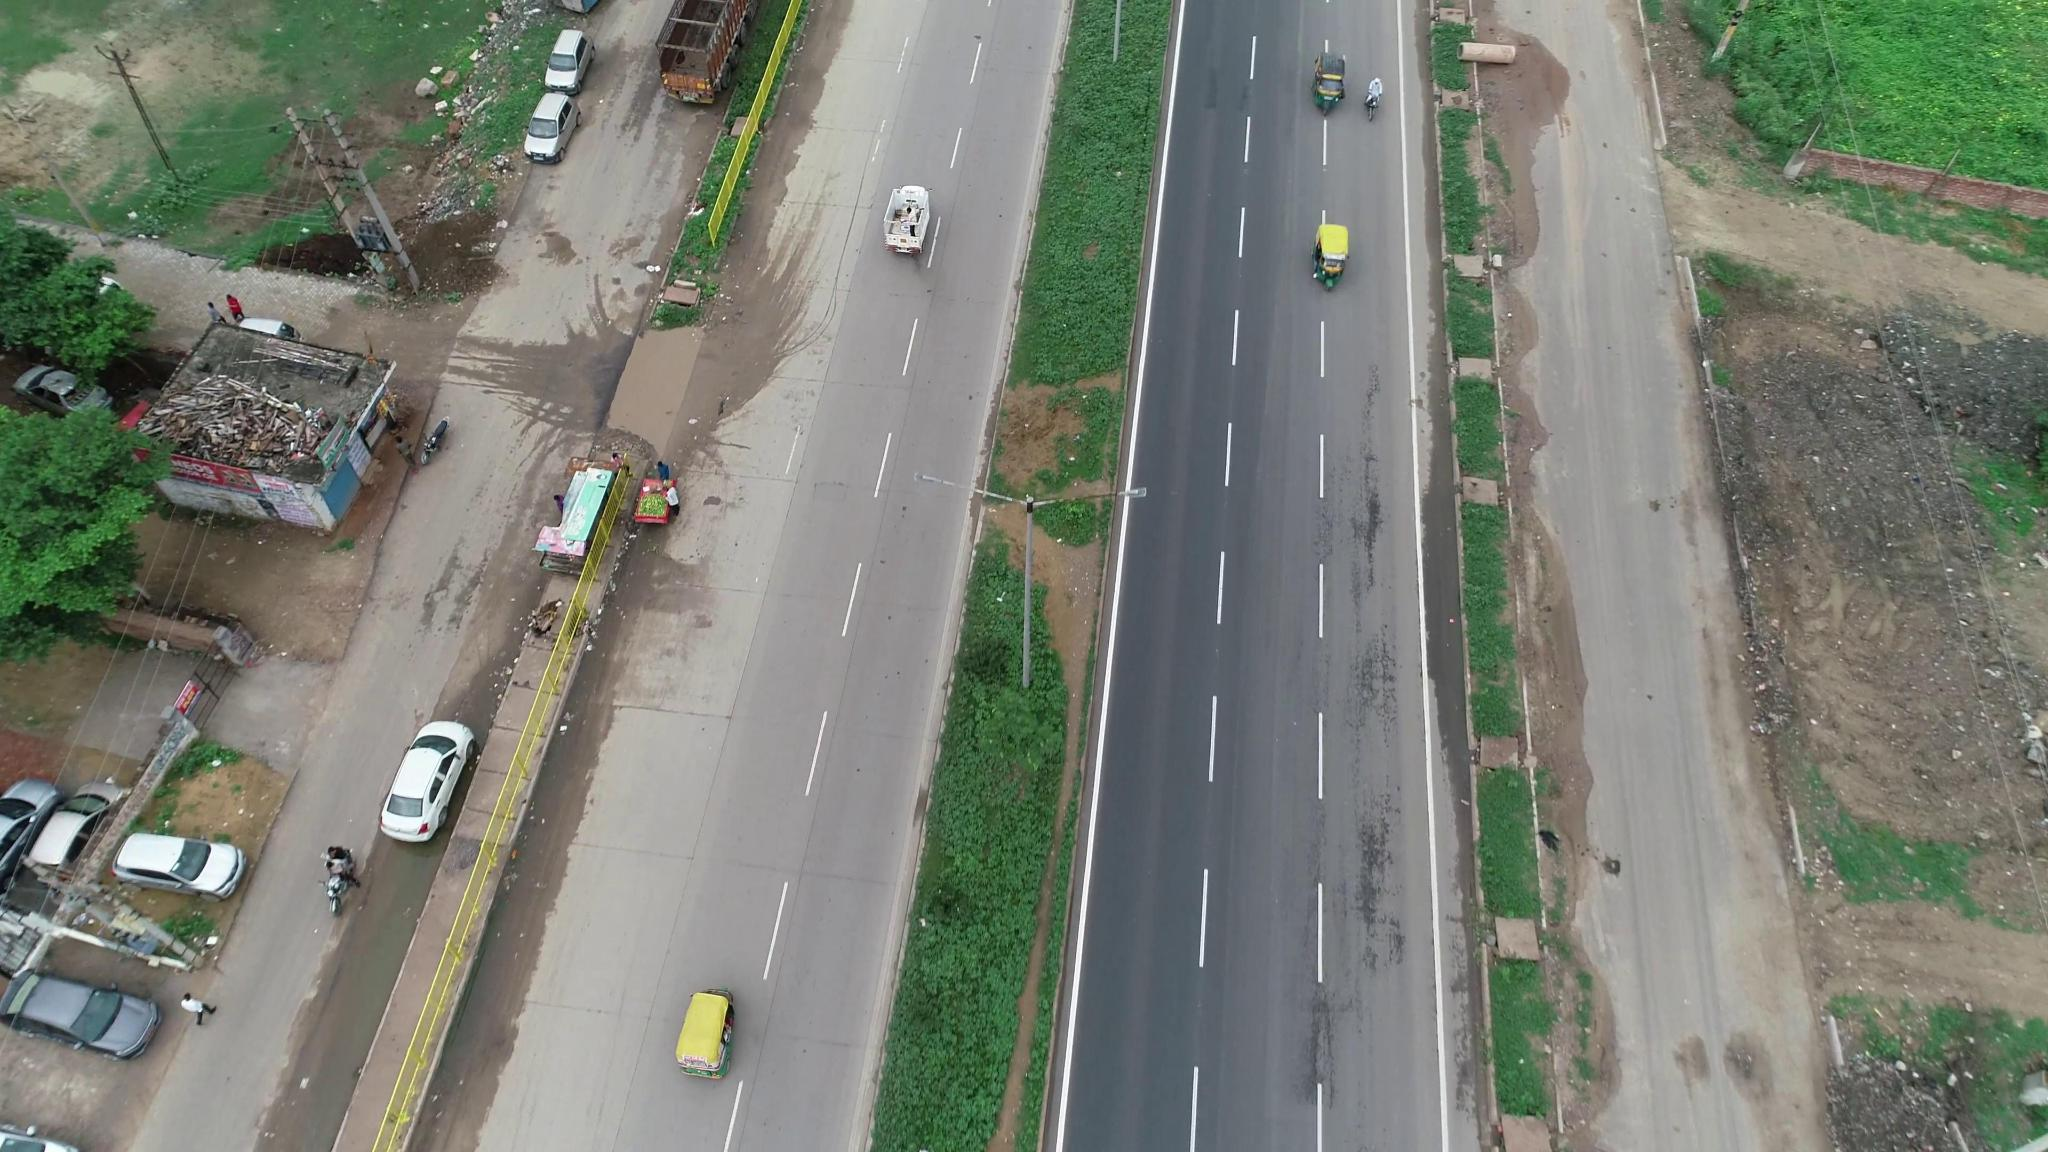Muddy_road: (1523, 508, 1612, 885), (1487, 42, 1571, 245)
Ravelling: (1340, 610, 1408, 978), (1340, 340, 1393, 596)
